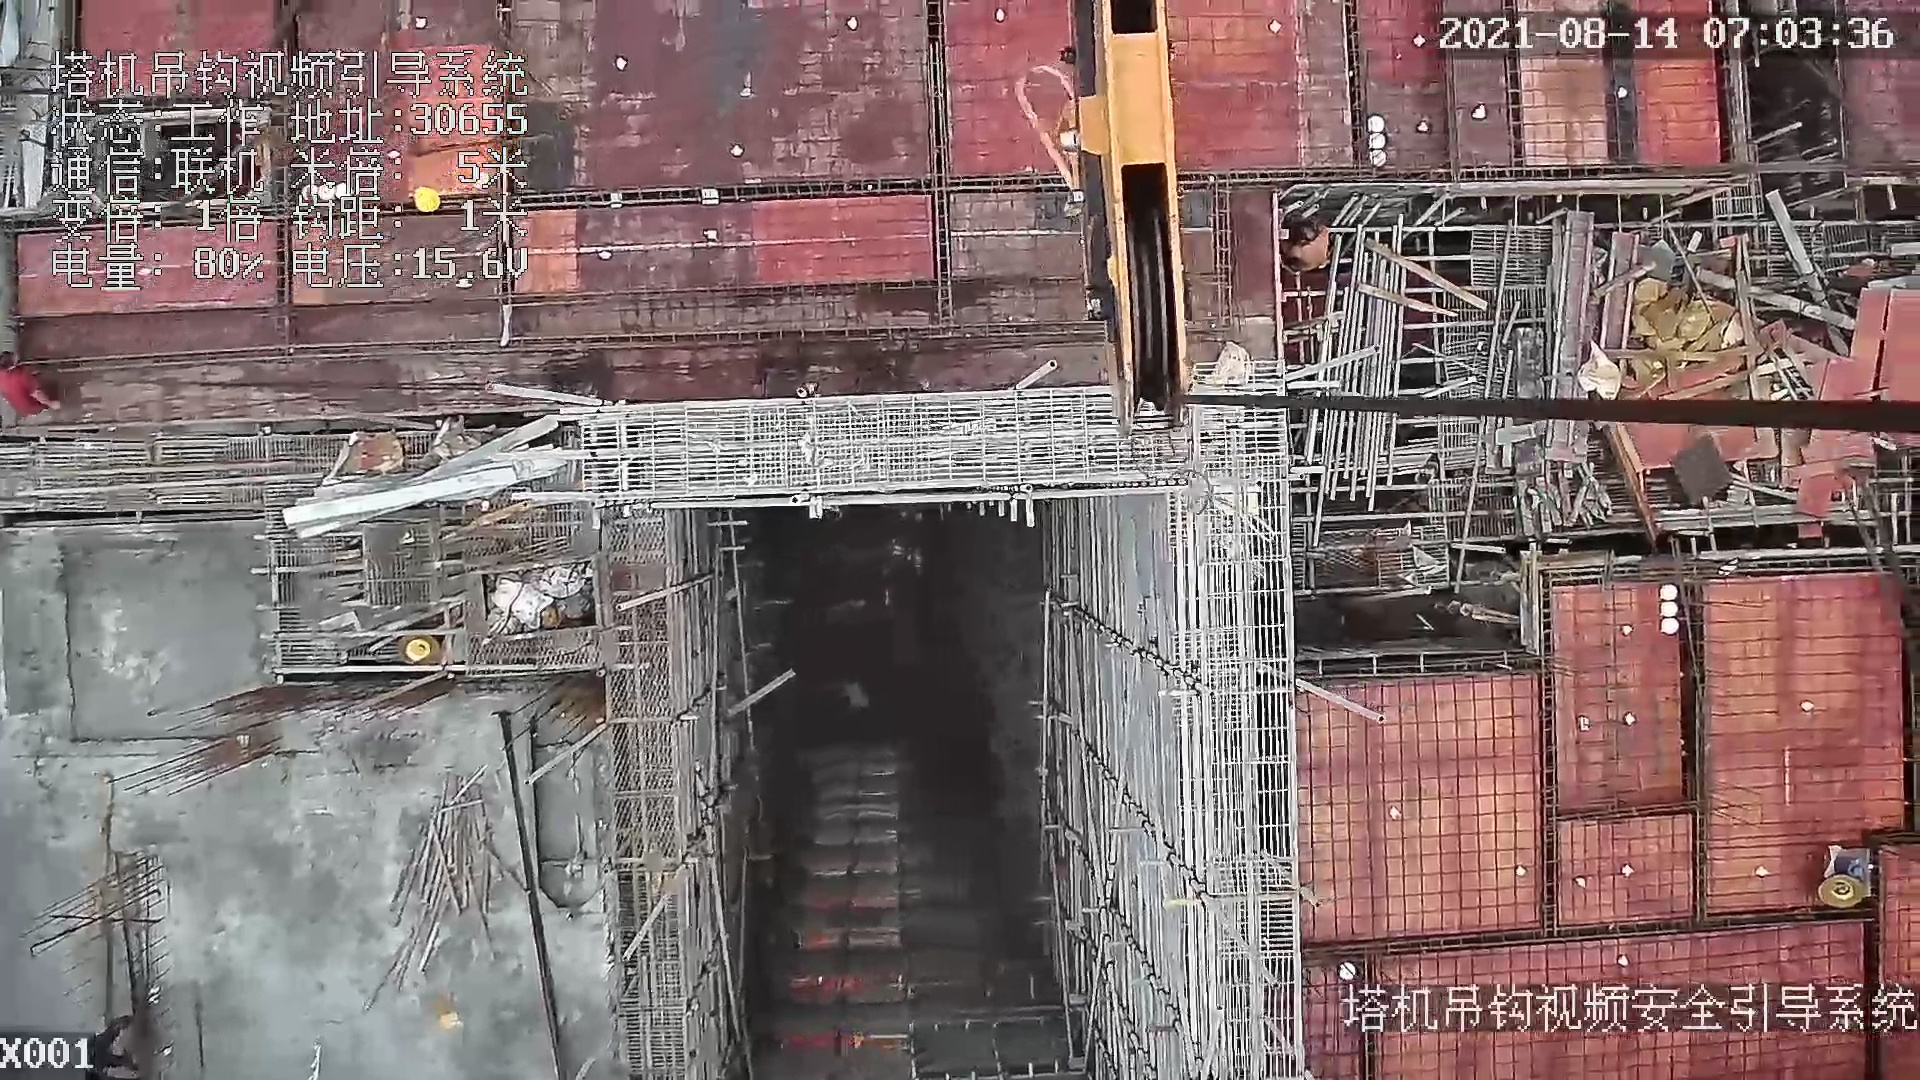helmet: (408, 184, 443, 215)
hook: (1006, 1, 1194, 433)
person: (1, 347, 63, 427)
